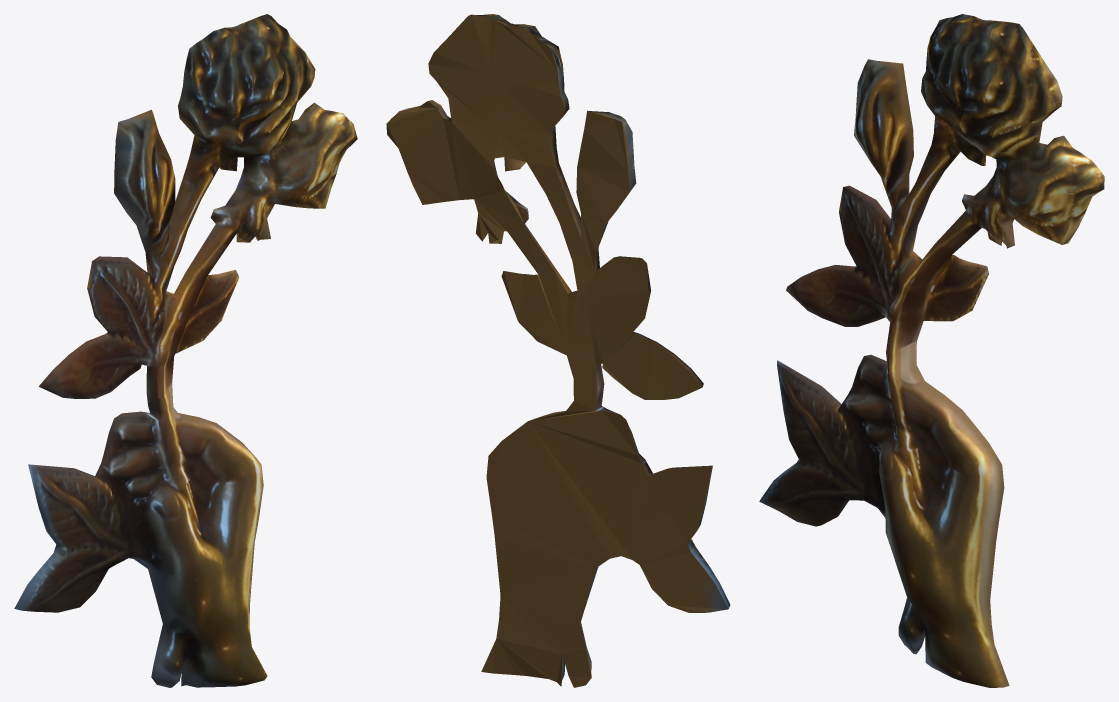
File: Art1649.fbx
3 renders of one model, left to right at view 1: azimuth 30°, elevation 25°; view 2: azimuth 150°, elevation 25°; view 3: azimuth 330°, elevation 25°, orthographic.
Visible parts, largest first — view 1: Mesh_2; view 2: Mesh_2; view 3: Mesh_2.
Part boxes in pixels (x1,y1,x2,y2): Mesh_2: [14, 14, 357, 687]; Mesh_2: [386, 14, 730, 687]; Mesh_2: [759, 14, 1104, 687].
Bounding box in the file's own units: 7 × 12.88 × 0.8909.
1 material, 1 textured.
